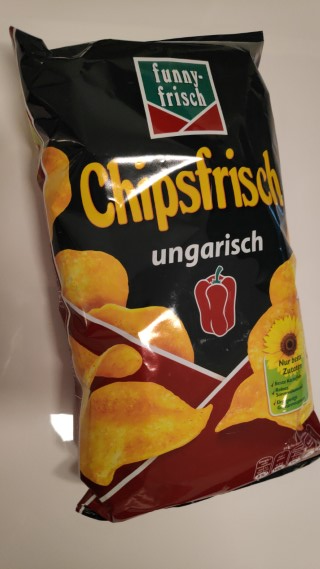chipsfrisch: (6, 22, 320, 525)
